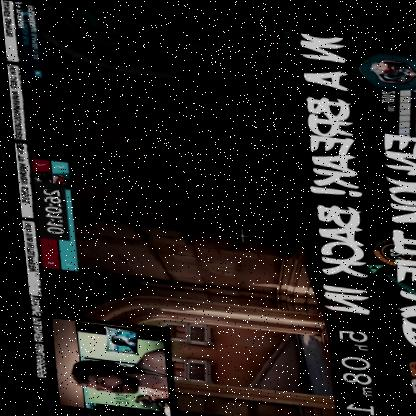streamer: (59, 337, 161, 406)
